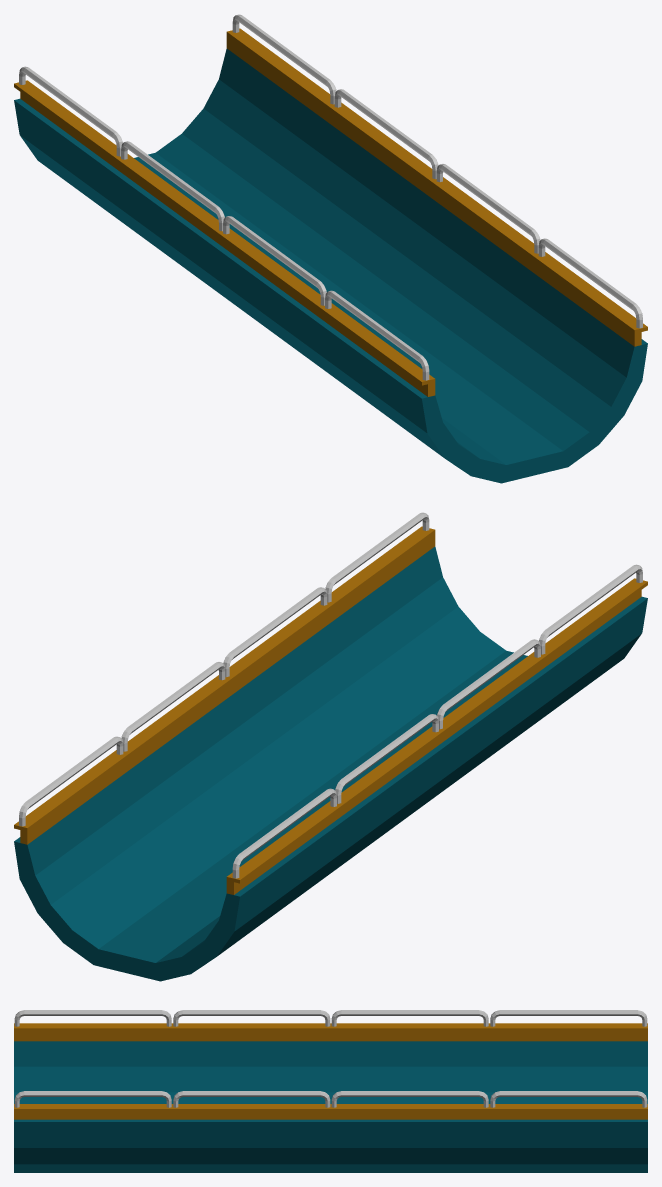
File: halfpipe-straight_m.FBX
3 views of the same model, one above another, from view 1: azimuth 30°, elevation 25°; view 2: azimuth 150°, elevation 25°; view 3: azimuth 270°, elevation 25° (orthographic). The views are drawn at different scales.
Parts seen in each view (by area): view 1: straight_m, wall_l, wall_r; view 2: straight_m, wall_l, wall_r; view 3: straight_m, wall_r, wall_l.
Part boxes in pixels (x1=…): straight_m: x1=14, y1=48, x2=647, y2=483; wall_l: x1=226, y1=14, x2=647, y2=346; wall_r: x1=14, y1=66, x2=435, y2=396; straight_m: x1=14, y1=546, x2=647, y2=981; wall_l: x1=14, y1=512, x2=435, y2=844; wall_r: x1=226, y1=564, x2=647, y2=894; straight_m: x1=14, y1=1041, x2=647, y2=1172; wall_r: x1=14, y1=1010, x2=647, y2=1041; wall_l: x1=14, y1=1091, x2=647, y2=1119.
Size of what is drawn, in the model's own units: 128 by 400 by 75.73.
